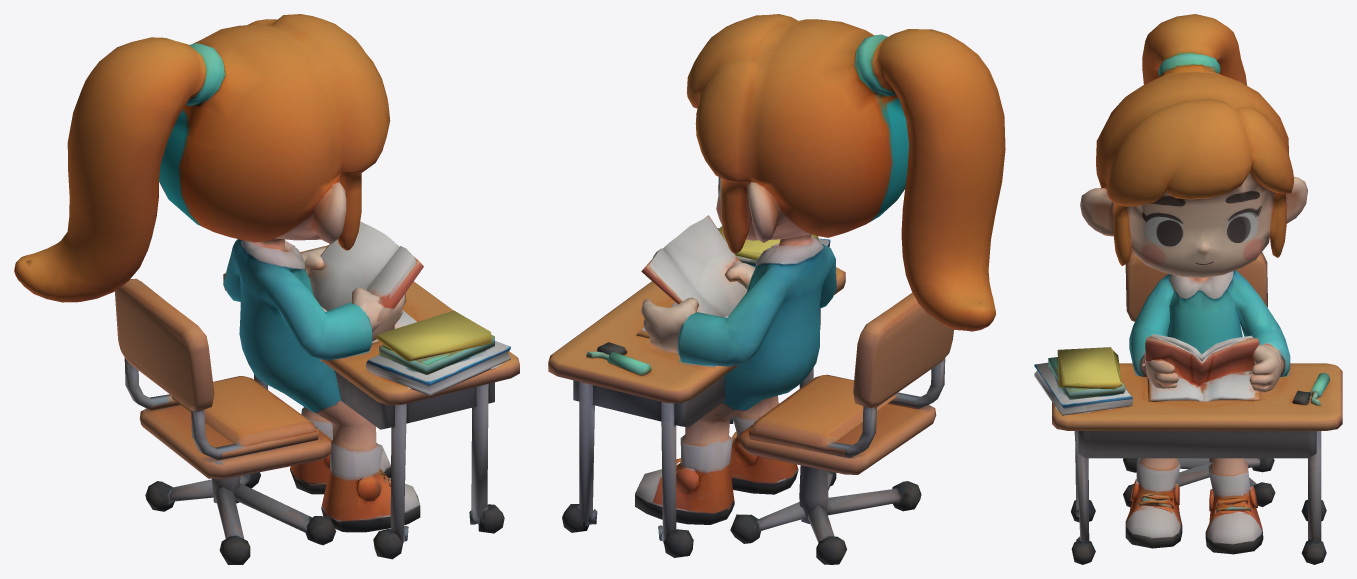
File: tile12.glb
3 views of the same model, side by side, from view 1: azimuth 30°, elevation 25°; view 2: azimuth 150°, elevation 25°; view 3: azimuth 270°, elevation 25° (orthographic). The views are drawn at different scales.
Visible parts, largest first — view 1: tripo_node_08af94e9-0002-4ff9-ad76-042cc1f60883; view 2: tripo_node_08af94e9-0002-4ff9-ad76-042cc1f60883; view 3: tripo_node_08af94e9-0002-4ff9-ad76-042cc1f60883.
Boxes of the visible parts, x1=… form: tripo_node_08af94e9-0002-4ff9-ad76-042cc1f60883: x1=14, y1=14, x2=519, y2=564; tripo_node_08af94e9-0002-4ff9-ad76-042cc1f60883: x1=548, y1=14, x2=1005, y2=564; tripo_node_08af94e9-0002-4ff9-ad76-042cc1f60883: x1=1034, y1=14, x2=1342, y2=564.
Bounding box in the file's own units: 0.8105 × 0.998 × 0.6465.
Materials: 1 (1 with a texture image).
